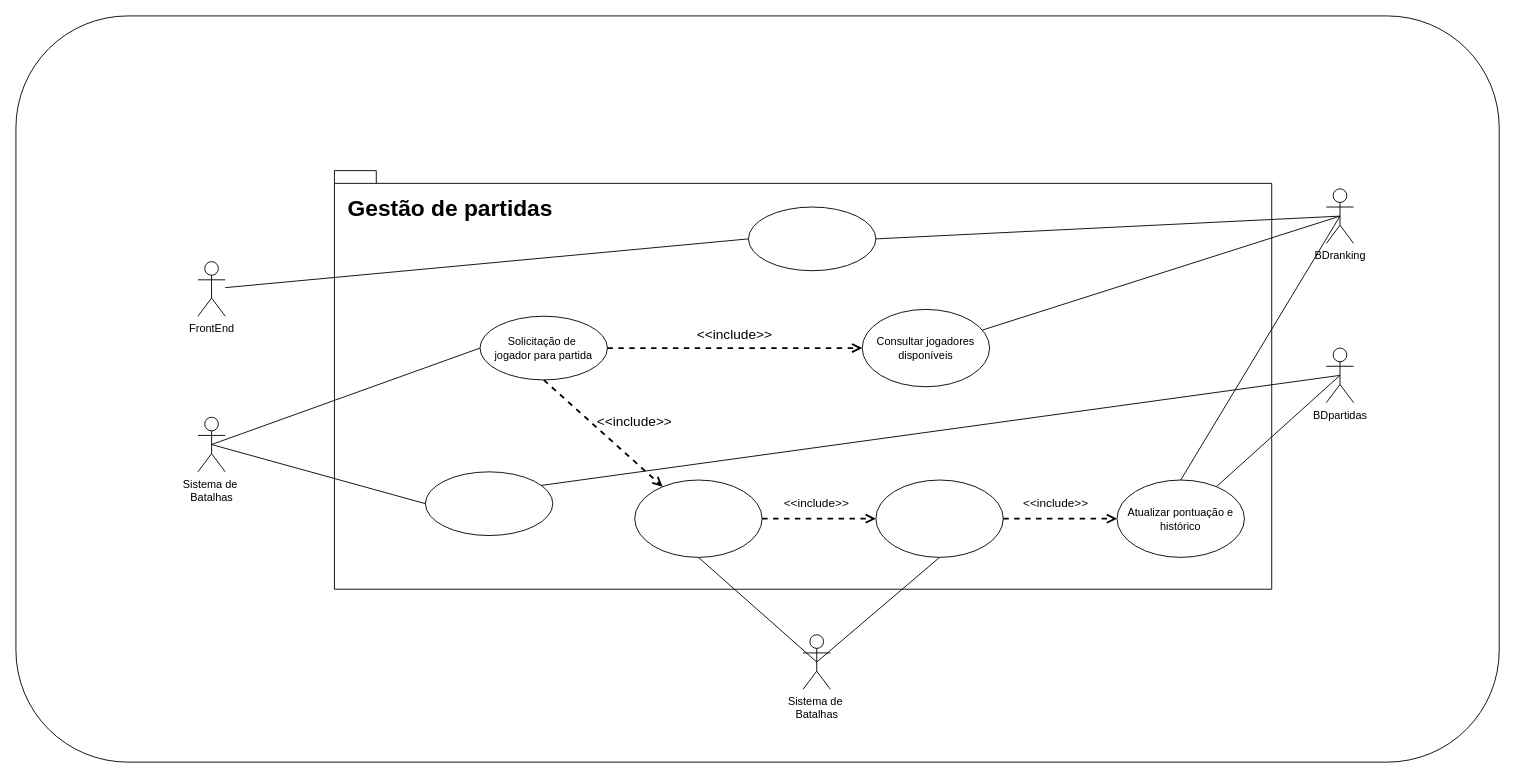
Some shapes in this 1515 by 778 pixel diagram are drawn without their labels. Here are the shapes that lost their labels. From the top down, the centre of each, then its label:
(x=812, y=238): Ver pontuação do jogador
(x=489, y=503): Ver histórico de partidas
(x=698, y=518): Realizar batalha
(x=939, y=518): Registrar resultados da partida
